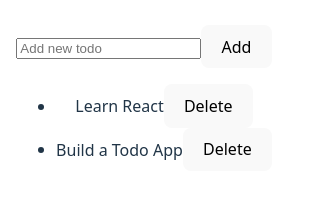
Test: TodoList › adds a new todo
The width and height of the screenshot is (320, 198).
Type "Test Todo" into the field with placeholder "Add new todo".
click(109, 48); type("Test Todo")  # box [16, 38, 201, 59]
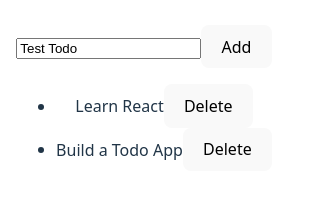
Click the button "Add".
click(236, 47)  # box [201, 25, 272, 68]
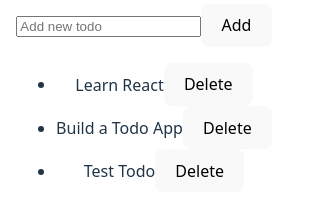
Expected: the list item "Test Todo" is shown, [84, 160, 155, 182]
